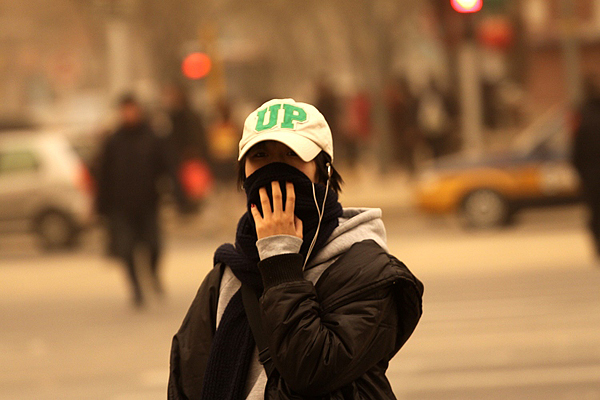face_mask: (244, 139, 319, 221)
